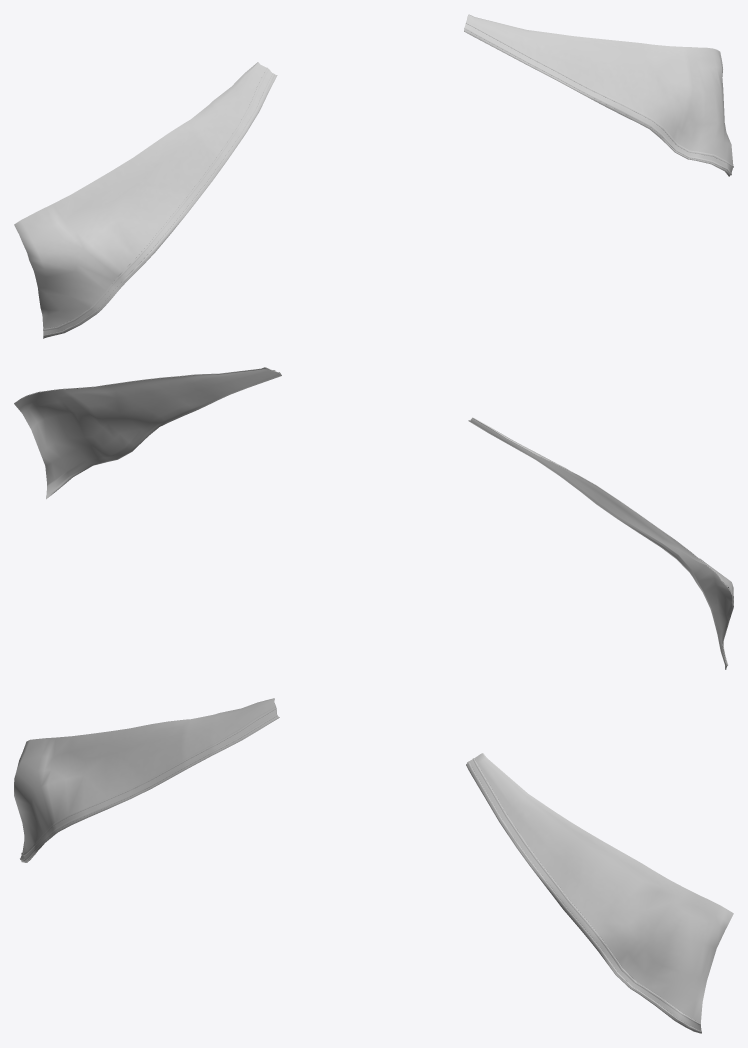
The model's file is Jac_Decor_TOP_FACE.glb.
The picture shows the model from 3 angles, top to bottom: view 1: azimuth 30°, elevation 25°; view 2: azimuth 150°, elevation 25°; view 3: azimuth 330°, elevation 25°; orthographic projection.
Parts seen in each view (by area): view 1: Jac_Decor_TOP_FACE1, Rope1; view 2: Jac_Decor_TOP_FACE1; view 3: Jac_Decor_TOP_FACE1, Rope1.
Boxes of the visible parts, <box> form: Jac_Decor_TOP_FACE1: <box>14,14,733,338</box>; Rope1: <box>43,22,733,336</box>; Jac_Decor_TOP_FACE1: <box>14,367,733,669</box>; Jac_Decor_TOP_FACE1: <box>14,698,733,1033</box>; Rope1: <box>20,706,701,1032</box>.
Bounding box in the file's own units: 0.7182 × 0.2019 × 0.0775.
Materials: 2 (2 with a texture image).
